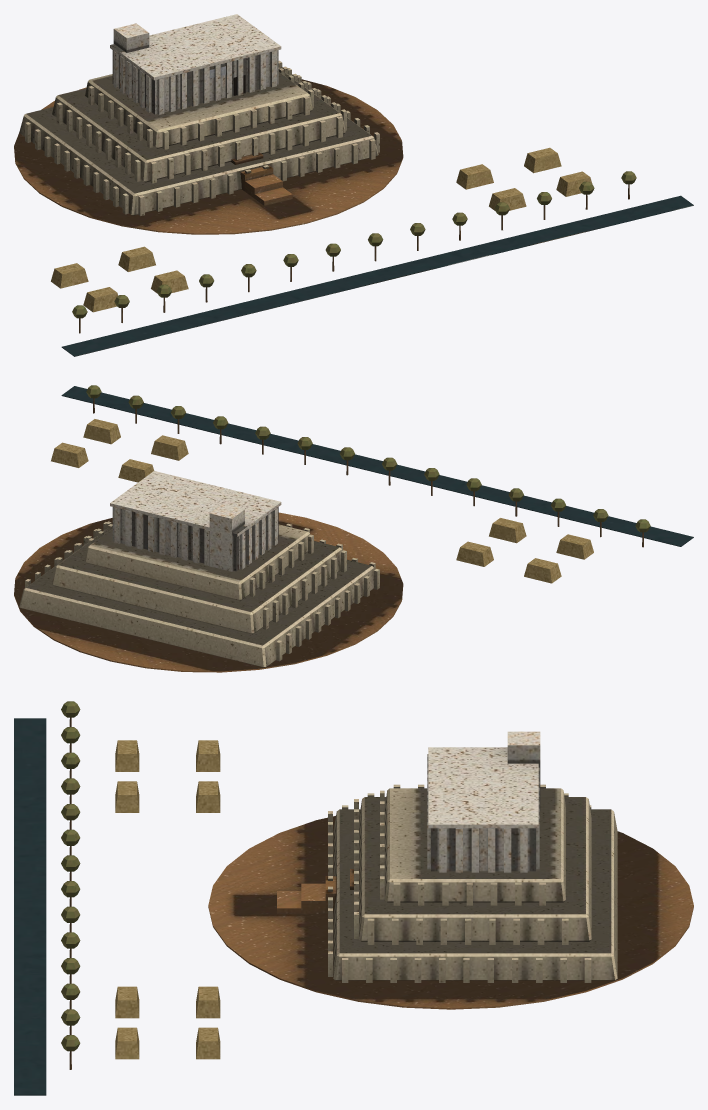
File: white_temple_of_uruk.glb
3 renders of one model, top to bottom at view 1: azimuth 30°, elevation 25°; view 2: azimuth 150°, elevation 25°; view 3: azimuth 270°, elevation 25°, orthographic. The views are drawn at different scales.
Visible parts, largest first — view 1: LOD0, LOD0.002, LOD0.001; view 2: LOD0, LOD0.002, LOD0.001; view 3: LOD0, LOD0.002, LOD0.001.
Boxes of the visible parts, x1=… form: LOD0: x1=14, y1=60, x2=403, y2=234; LOD0.002: x1=51, y1=147, x2=693, y2=356; LOD0.001: x1=110, y1=14, x2=281, y2=114; LOD0: x1=14, y1=512, x2=403, y2=672; LOD0.002: x1=51, y1=385, x2=693, y2=583; LOD0.001: x1=110, y1=471, x2=281, y2=571; LOD0: x1=208, y1=784, x2=693, y2=1009; LOD0.002: x1=14, y1=701, x2=359, y2=1095; LOD0.001: x1=427, y1=731, x2=540, y2=872.
Size of what is drawn, in the model's own units: 11 by 1.9 by 8.4.
Materials: 2 (2 with a texture image).
